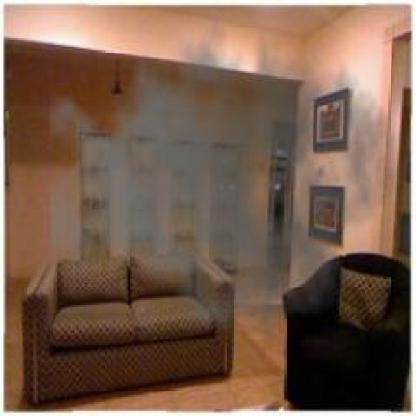Smoke: (48, 0, 396, 348)
